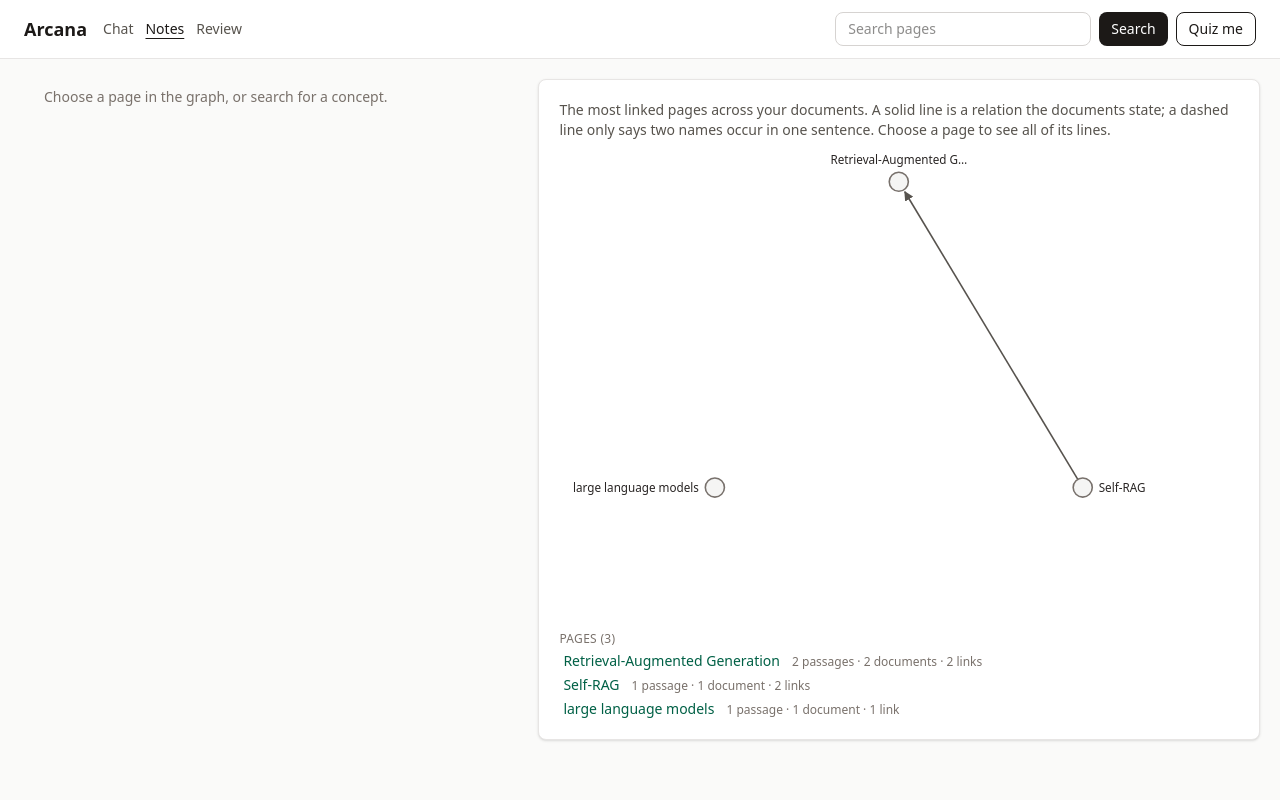
Test: NotesWorkspace › opens a page when its name is chosen in the graph, and shows the page beside the graph
Click the button "Self-RAG".
click(591, 685)  # box [559,675,624,695]
(page scrolled)
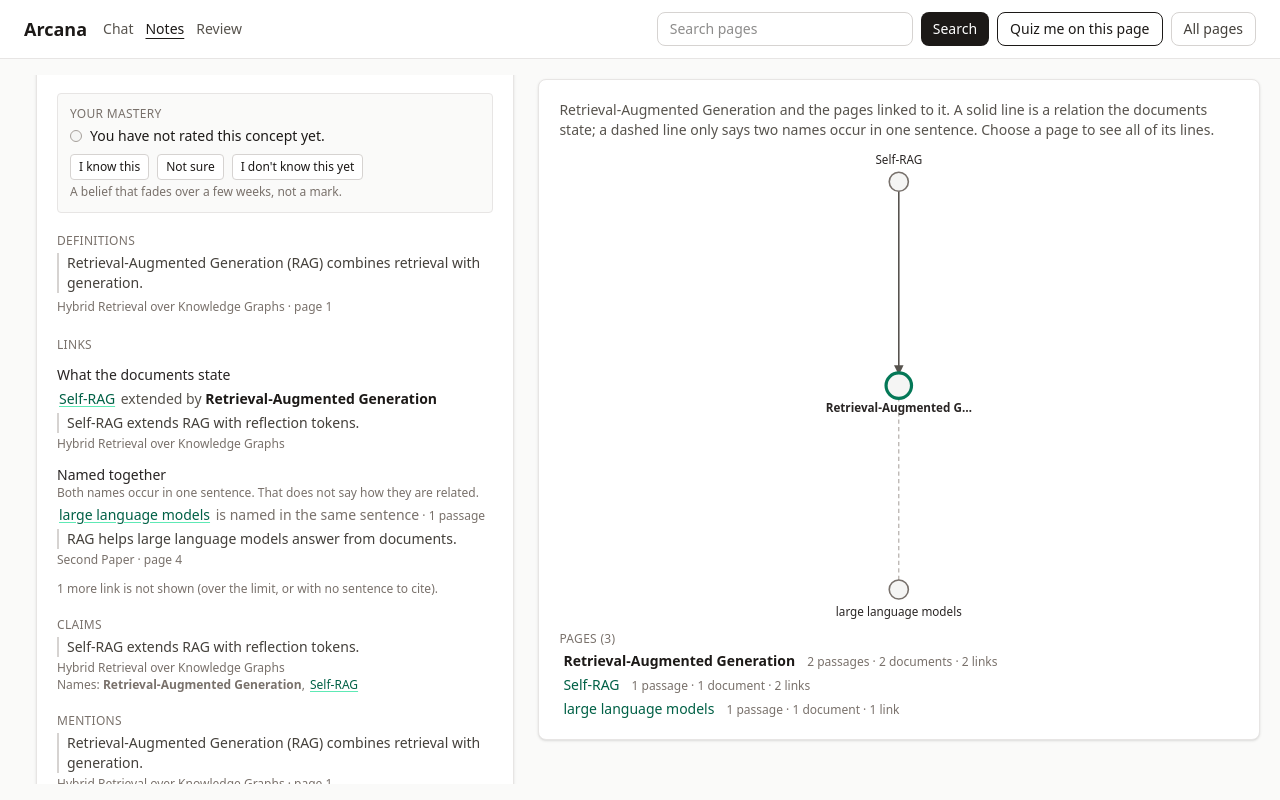
Now the element "Retrieval-Augmented Generation" is shown, box [57,75,493,784]
Now the text "Choose a page in the graph, or search for a concept." is gone
